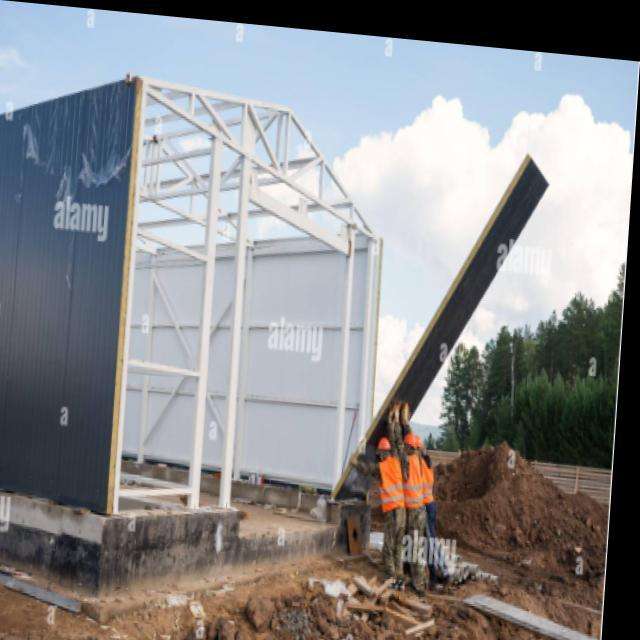boots: (401, 572, 429, 599), (425, 569, 453, 593), (379, 574, 406, 593)
helmet: (375, 436, 392, 462), (401, 432, 417, 458), (412, 434, 423, 455)
vest: (374, 455, 409, 516), (398, 453, 427, 511), (415, 451, 439, 505)
